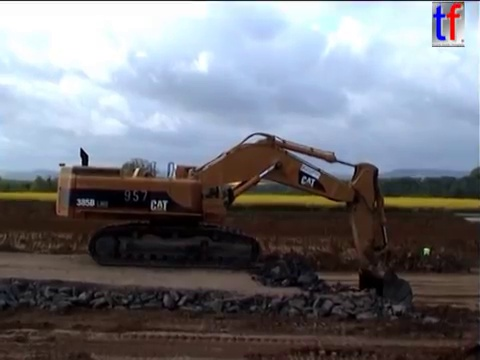excavator: (52, 129, 416, 323)
